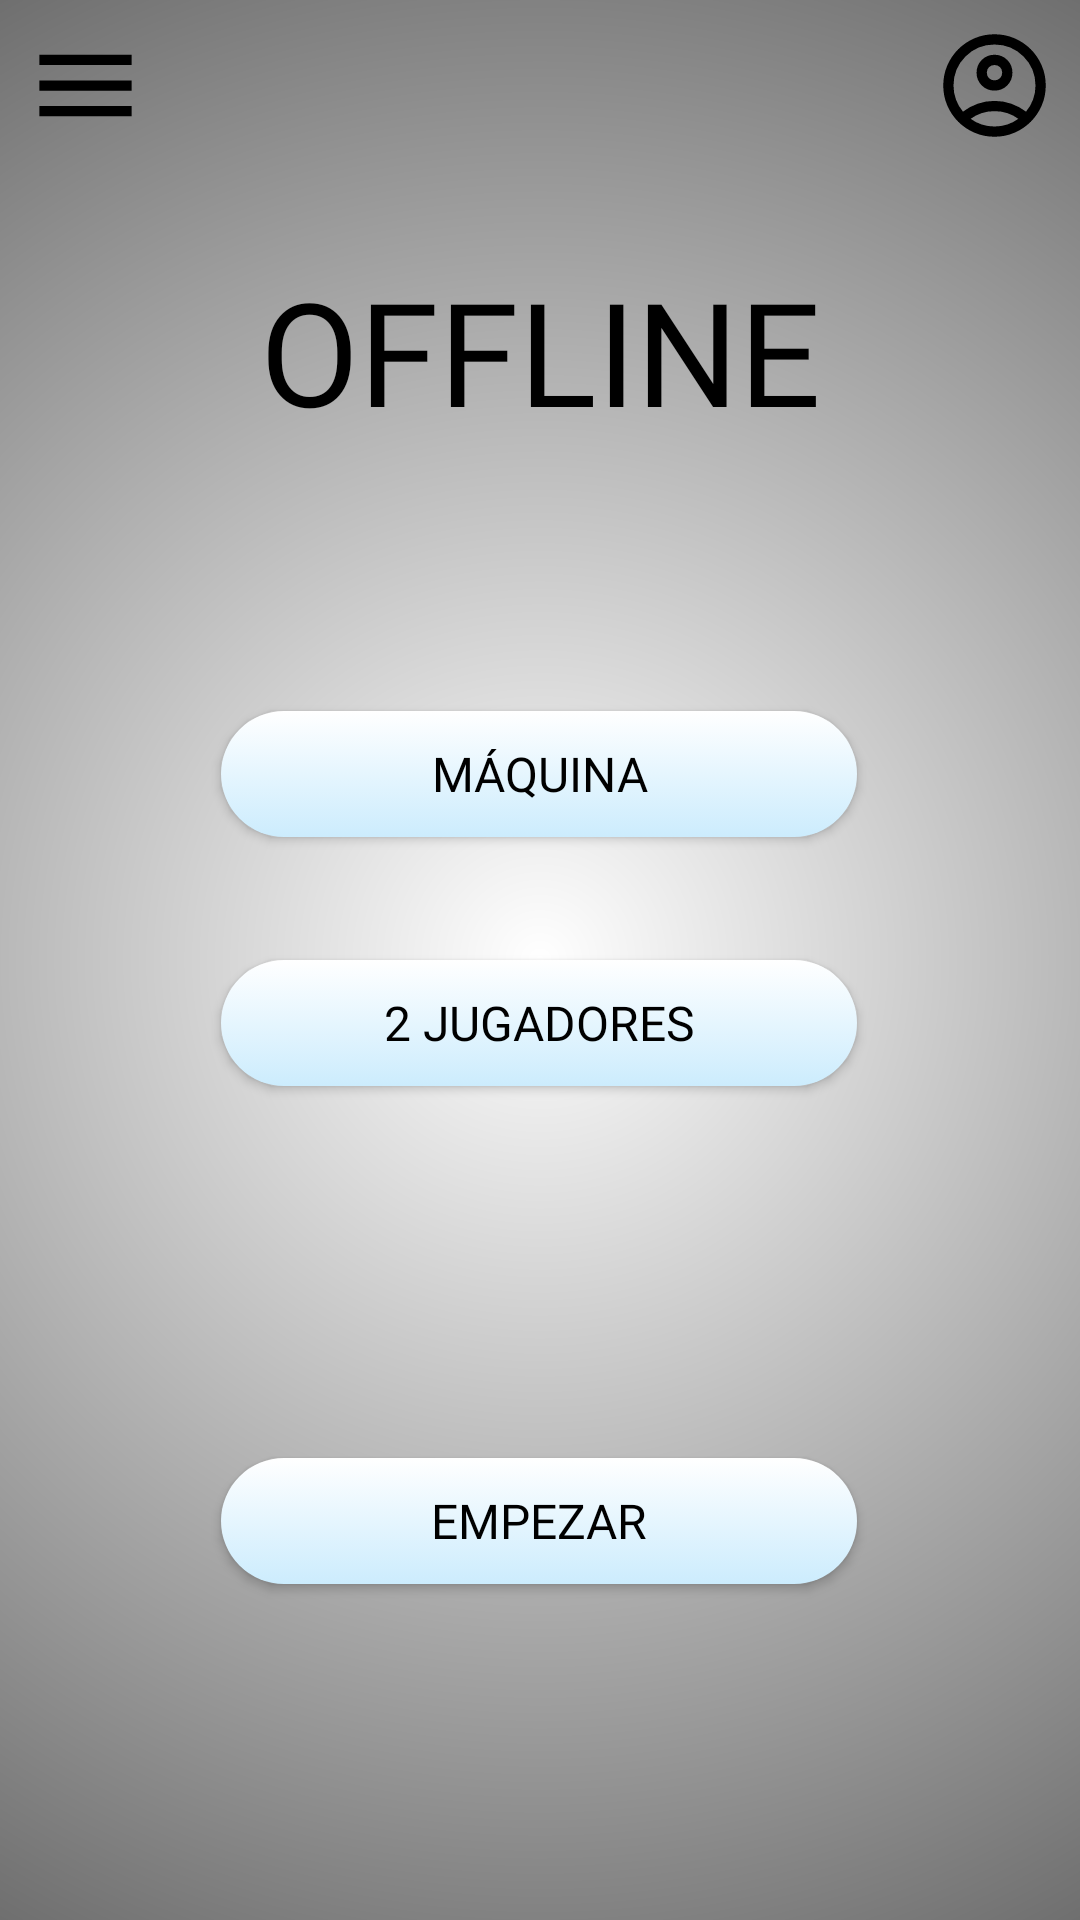

Locate icon controls on the screen. Image size 1080px×1920px, boxes as Rect(x1, y1, x2, y2).
account: Rect(943, 34, 1046, 137)
menu: Rect(39, 54, 132, 117)
